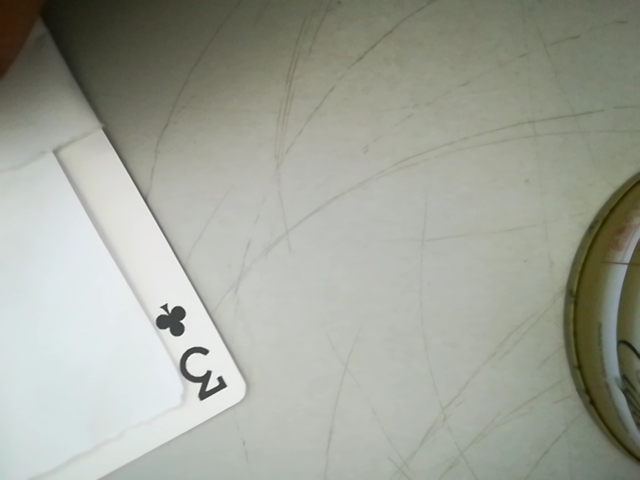mh 3: (140, 284, 229, 414)
